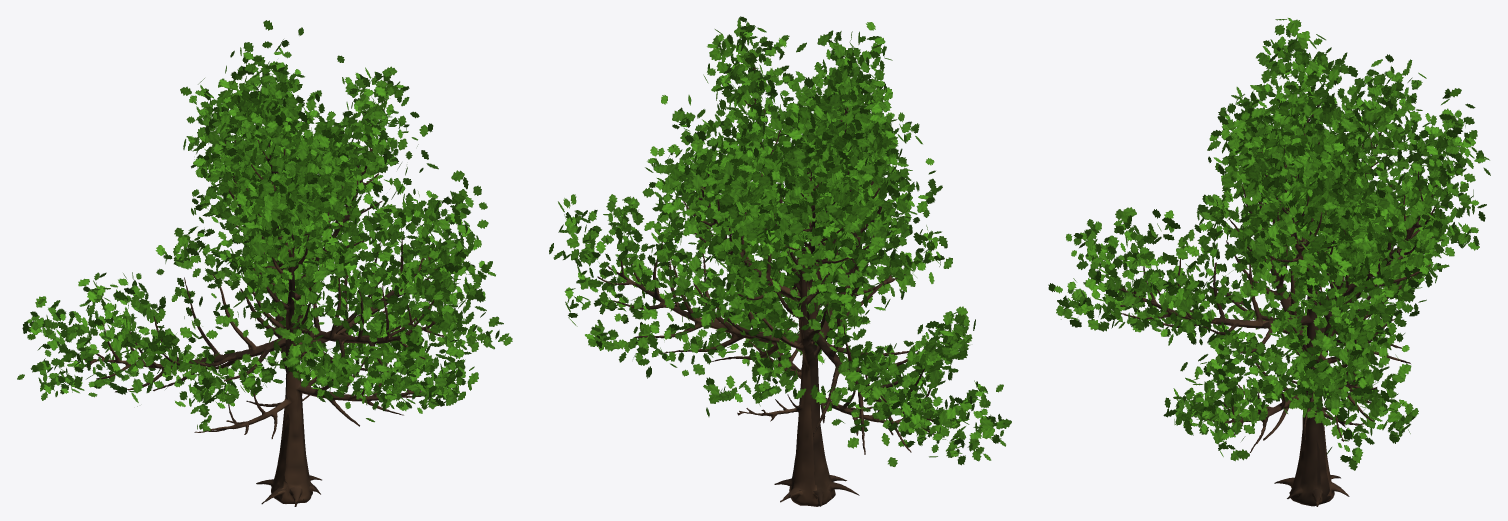
The model's file is oak_sapling_v008.glb.
The picture shows the model from 3 angles, left to right: view 1: azimuth 30°, elevation 25°; view 2: azimuth 150°, elevation 25°; view 3: azimuth 270°, elevation 25°; orthographic projection. The views are drawn at different scales.
Parts seen in each view (by area): view 1: Oak foliage cards, Oak_Sapling_Fused_Bark_V008; view 2: Oak foliage cards, Oak_Sapling_Fused_Bark_V008; view 3: Oak foliage cards, Oak_Sapling_Fused_Bark_V008.
Boxes of the visible parts, bbox=[...] form: Oak foliage cards: bbox=[17, 20, 512, 431]; Oak_Sapling_Fused_Bark_V008: bbox=[83, 112, 444, 506]; Oak foliage cards: bbox=[549, 16, 1011, 466]; Oak_Sapling_Fused_Bark_V008: bbox=[597, 67, 934, 506]; Oak foliage cards: bbox=[1048, 18, 1490, 470]; Oak_Sapling_Fused_Bark_V008: bbox=[1119, 104, 1441, 506].
Bounding box in the file's own units: 13.92 × 13.26 × 11.67.
Materials: 2 (2 with a texture image).
